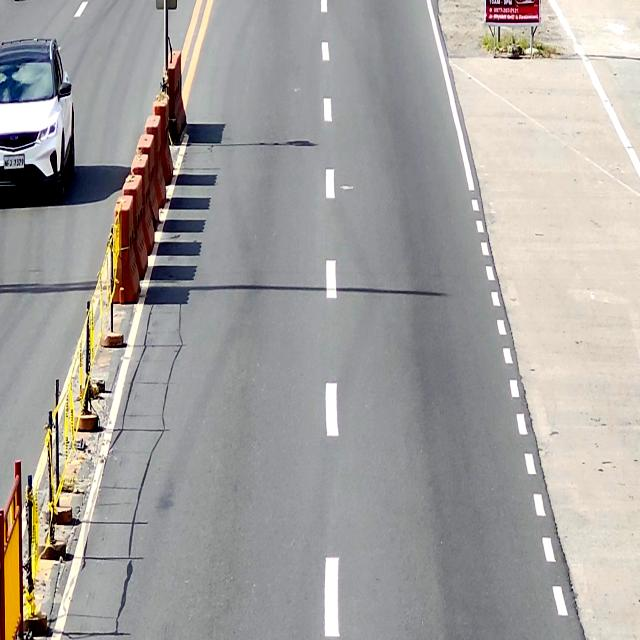Car: (0, 36, 75, 200)
License-Plate: (3, 152, 25, 171)
